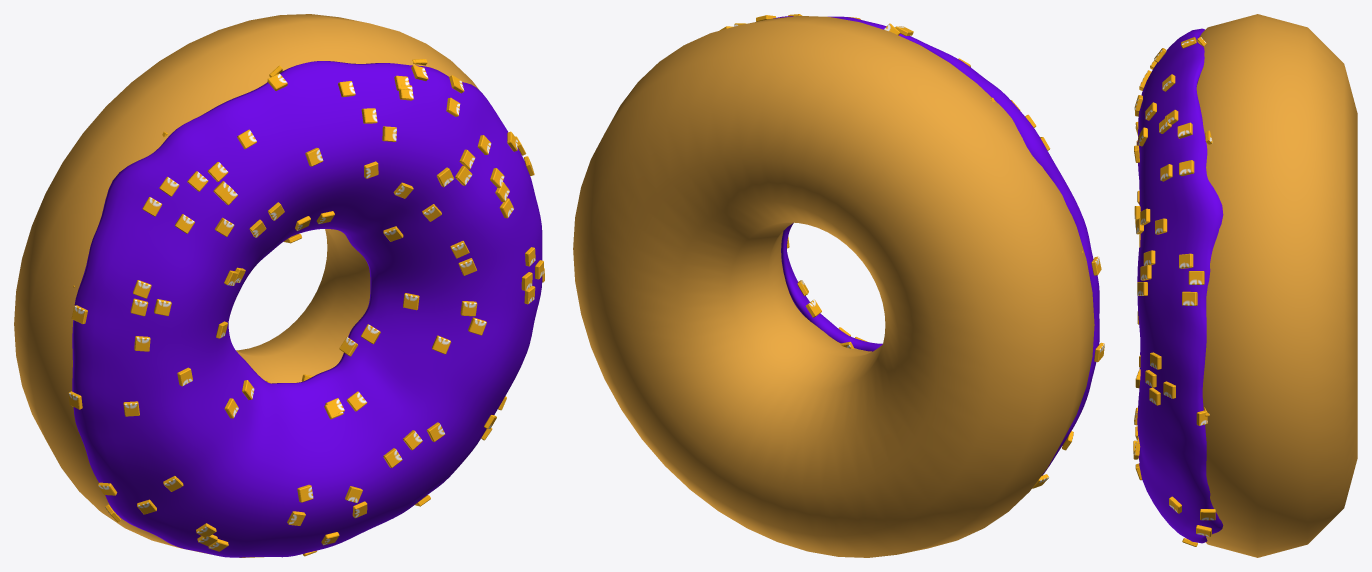
Rendered from escience_donut.glb.
3 renders of one model, left to right at view 1: azimuth 30°, elevation 25°; view 2: azimuth 150°, elevation 25°; view 3: azimuth 270°, elevation 25°, orthographic. The views are drawn at different scales.
Parts seen in each view (by area): view 1: glaze, Torus; view 2: Torus, glaze; view 3: Torus, glaze.
Boxes of the visible parts, bbox=[...] form: glaze: bbox=[68, 59, 544, 557]; Torus: bbox=[14, 14, 478, 557]; Torus: bbox=[573, 15, 1094, 557]; glaze: bbox=[720, 14, 1104, 488]; Torus: bbox=[1196, 14, 1357, 557]; glaze: bbox=[1133, 28, 1223, 546].
Size of the model in its own units: 3.16 by 3.16 by 1.3.
3 materials, 1 textured.
